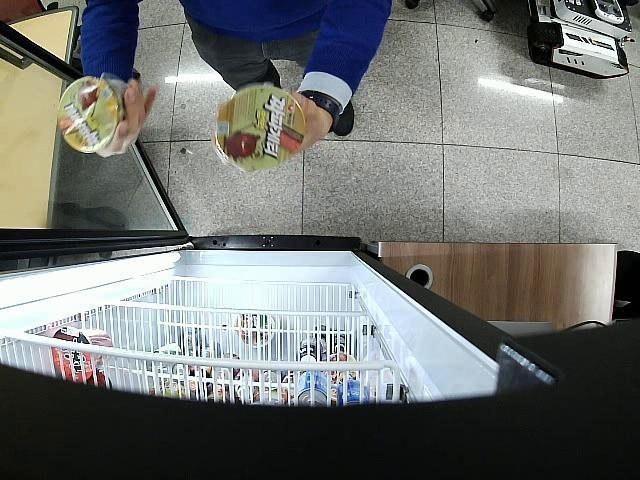04_chapagetti_S: (211, 84, 305, 174), (57, 77, 131, 153)
